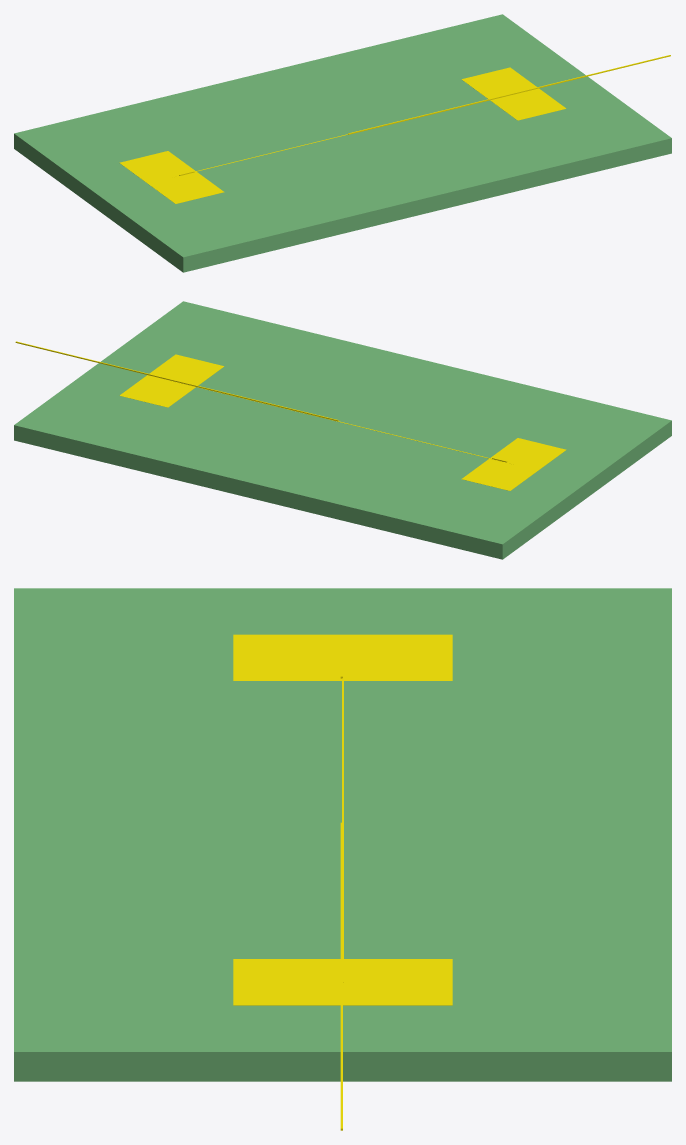
The model's file is board.glb.
3 views of the same model, one above another, from view 1: azimuth 30°, elevation 25°; view 2: azimuth 150°, elevation 25°; view 3: azimuth 270°, elevation 25° (orthographic). The views are drawn at different scales.
Visible parts, largest first — view 1: Substrate_Layer_0_Z0, Substrate_Layer_1_Z0, Substrate_Layer_2_Z0, POWER_BUS_1; view 2: Substrate_Layer_0_Z0, Substrate_Layer_1_Z0, Substrate_Layer_2_Z0, POWER_BUS_1; view 3: Substrate_Layer_0_Z0, Substrate_Layer_1_Z0, Substrate_Layer_2_Z0, POWER_BUS_1.
Boxes of the visible parts, left/top/right/bottom form: Substrate_Layer_0_Z0: left=14, top=14, right=671, bottom=272; Substrate_Layer_1_Z0: left=119, top=151, right=224, bottom=203; Substrate_Layer_2_Z0: left=462, top=67, right=566, bottom=120; POWER_BUS_1: left=348, top=55, right=670, bottom=134; Substrate_Layer_0_Z0: left=14, top=301, right=671, bottom=559; Substrate_Layer_1_Z0: left=461, top=438, right=566, bottom=490; Substrate_Layer_2_Z0: left=119, top=354, right=223, bottom=407; POWER_BUS_1: left=15, top=341, right=338, bottom=421; Substrate_Layer_0_Z0: left=14, top=588, right=671, bottom=1081; Substrate_Layer_1_Z0: left=233, top=634, right=452, bottom=680; Substrate_Layer_2_Z0: left=233, top=959, right=452, bottom=1005; POWER_BUS_1: left=340, top=822, right=342, bottom=1130.
Bounding box in the file's own units: 0.0585 × 0.00161 × 0.03.
